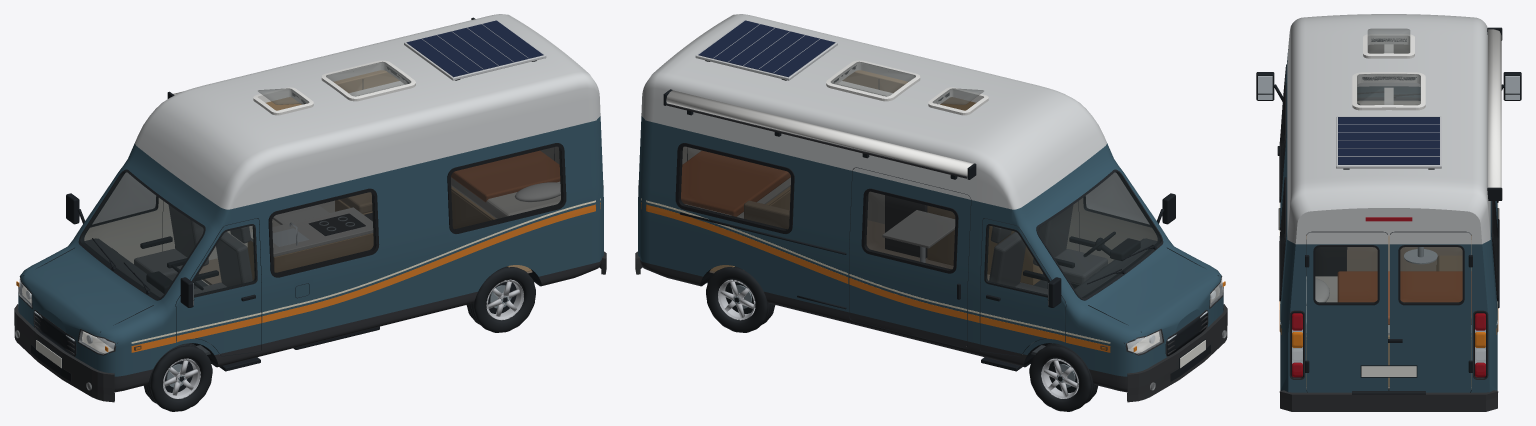
Rendered from generic-high-roof-campervan-2b3b391b.glb.
3 views of the same model, side by side, from view 1: azimuth 30°, elevation 25°; view 2: azimuth 150°, elevation 25°; view 3: azimuth 270°, elevation 25° (orthographic). The views are drawn at different scales.
Parts seen in each view (by area): view 1: Original high-roof campervan lofted shell, Raked laminated windscreen glazing, Left habitation window glazing.001, Left habitation window glazing, Driver cab door, Solar panel cells, Rear transverse bed duvet, Cab door window glazing, Front bumper, Passenger cab door, Orange sweep decal.002, Tyre with tread blocks (+26 smaller); view 2: Original high-roof campervan lofted shell, Kerbside sliding door, Raked laminated windscreen glazing, Right habitation window glazing, Sliding door window glazing, Passenger cab door, Rear transverse bed duvet, Roll-out awning cassette, Solar panel cells, Cab door window glazing.001, Front bumper, Tyre with tread blocks.001 (+27 smaller); view 3: Original high-roof campervan lofted shell, Left rear barn door, Right rear barn door, Solar panel cells, Rear bumper, Rear door window glazing, Rear door window glazing.001, Rear transverse bed duvet, Roll-out awning cassette, Panoramic skylight translucent dome, Living area floor, Panoramic skylight raised frame (+21 smaller).
Part boxes in pixels (x1,y1,x2,y2): Original high-roof campervan lofted shell: [18, 14, 603, 392]; Raked laminated windscreen glazing: [81, 172, 203, 298]; Left habitation window glazing.001: [451, 146, 563, 230]; Left habitation window glazing: [272, 192, 375, 274]; Driver cab door: [175, 218, 261, 355]; Solar panel cells: [406, 20, 543, 77]; Rear transverse bed duvet: [451, 151, 559, 201]; Cab door window glazing: [193, 226, 255, 295]; Front bumper: [14, 304, 114, 402]; Passenger cab door: [84, 197, 163, 263]; Orange sweep decal.002: [262, 202, 600, 322]; Tyre with tread blocks: [144, 343, 212, 411]; Original high-roof campervan lofted shell: [638, 14, 1223, 392]; Kerbside sliding door: [849, 167, 971, 347]; Raked laminated windscreen glazing: [1038, 172, 1160, 298]; Right habitation window glazing: [678, 146, 790, 230]; Sliding door window glazing: [864, 191, 955, 270]; Passenger cab door: [980, 218, 1066, 355]; Rear transverse bed duvet: [681, 151, 790, 216]; Roll-out awning cassette: [666, 90, 973, 176]; Solar panel cells: [698, 20, 835, 77]; Cab door window glazing.001: [986, 226, 1048, 295]; Front bumper: [1127, 304, 1227, 402]; Tyre with tread blocks.001: [1029, 343, 1097, 411]; Original high-roof campervan lofted shell: [1280, 14, 1497, 392]; Left rear barn door: [1306, 231, 1387, 392]; Right rear barn door: [1390, 231, 1471, 392]; Solar panel cells: [1338, 117, 1439, 164]; Rear bumper: [1279, 390, 1498, 411]; Rear door window glazing: [1315, 247, 1377, 303]; Rear door window glazing.001: [1400, 247, 1462, 303]; Rear transverse bed duvet: [1337, 271, 1471, 324]; Roll-out awning cassette: [1488, 29, 1501, 187]; Panoramic skylight translucent dome: [1357, 74, 1420, 105]; Living area floor: [1306, 235, 1471, 389]; Panoramic skylight raised frame: [1352, 72, 1425, 110].
Size of the model in its own units: 6.03 by 2.77 by 2.5.
Materials: 32 (32 with a texture image).
